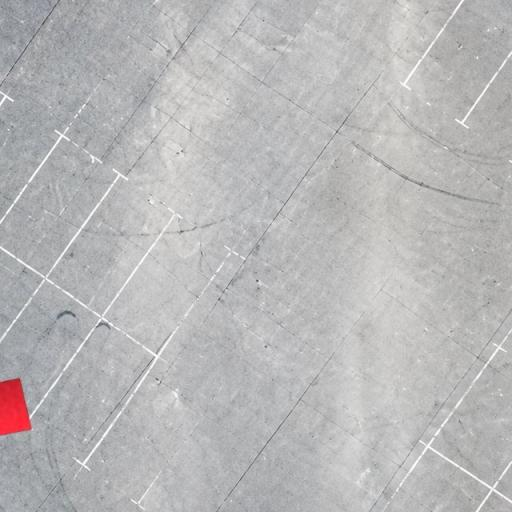RED_SQUARE: (0, 378, 32, 439)
